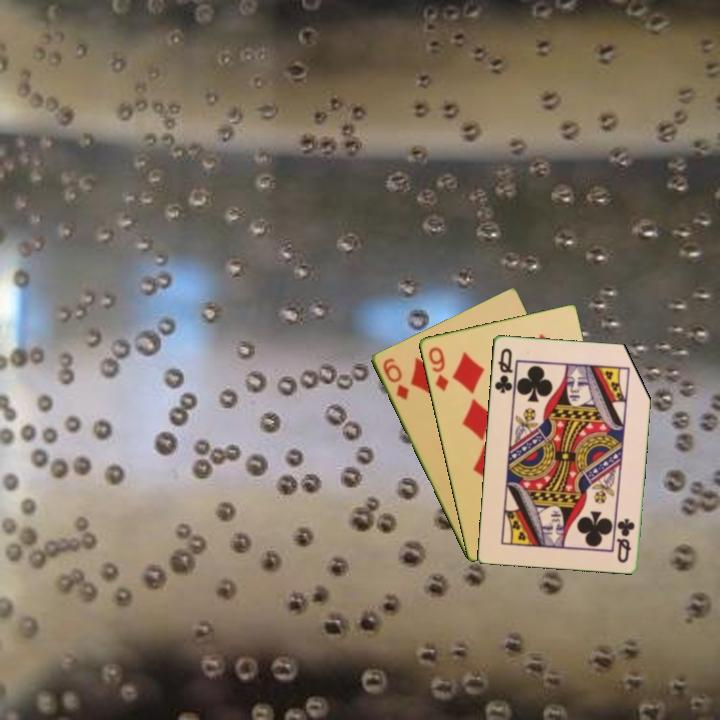6d: (379, 354, 412, 403)
9d: (425, 343, 451, 394)
Qc: (491, 344, 515, 396), (613, 514, 637, 565)
